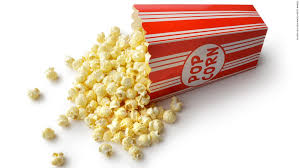popcorn: (22, 3, 271, 167)
